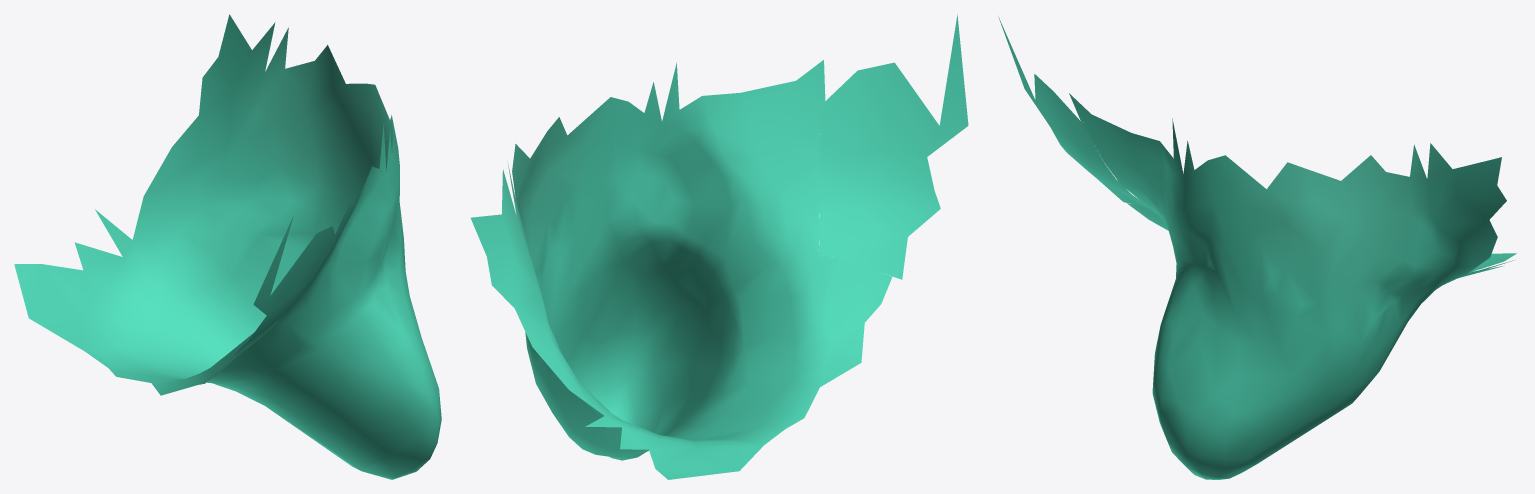
File: Pata_TD.obj
3 renders of one model, left to right at view 1: azimuth 30°, elevation 25°; view 2: azimuth 150°, elevation 25°; view 3: azimuth 270°, elevation 25°, orthographic. The views are drawn at different scales.
Visible parts, largest first — view 1: Pata_TD; view 2: Pata_TD; view 3: Pata_TD.
Part boxes in pixels (x1,y1,x2,y2): Pata_TD: (14, 14, 441, 479); Pata_TD: (470, 14, 968, 479); Pata_TD: (998, 16, 1516, 479).
Size of the model in its own units: 20.19 by 27.39 by 35.18.
